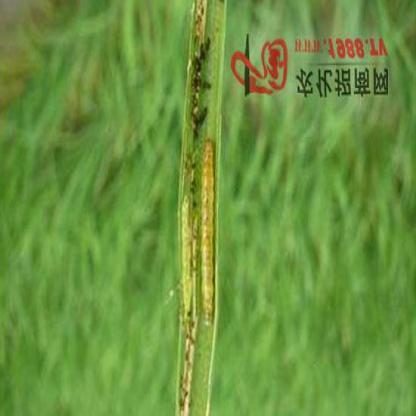leaf-folder: (193, 129, 229, 346)
